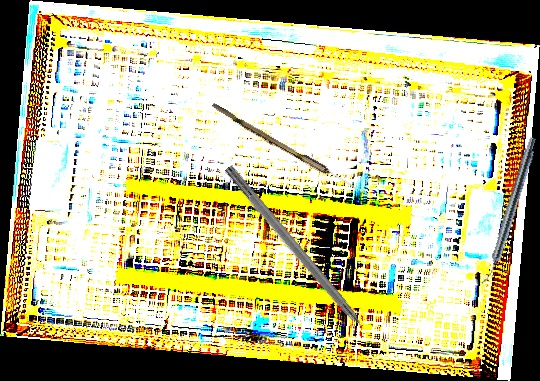Handpiece: (480, 134, 539, 288)
Hook Surgical: (221, 164, 382, 350)
Surgical Spoon: (209, 102, 372, 199)
